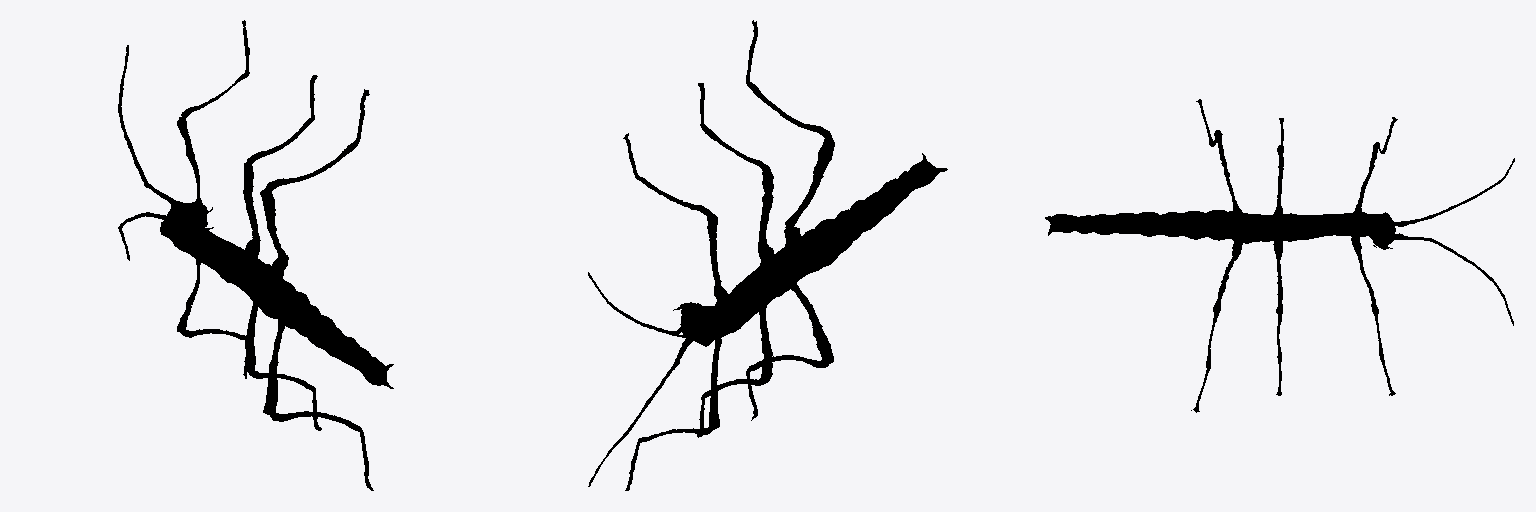
--- What the picture shows (computed from the rendered views, not written in the file) ---
Views: 3 orthographic renders of the robot side by side, from view 1: azimuth 30°, elevation 25°; view 2: azimuth 150°, elevation 25°; view 3: azimuth 270°, elevation 25°.
Model SungayaInexpecta with 43 links and 42 joints (42 revolute), rooted at 01_Carput, posed all joints at 0.
Visible links, largest first — view 1: 03_Mesothorax, 01_Carput, 15_HL_Femur_L, 07_Abdomen4, 06_Abdomen3, 20_HL_Femur_R, 13_Abdomen10, 30_ML_Femur_R, 02_Prothorax, 08_Abdomen5, 04_Metathorax, 40_FL_Femur_R (+4 smaller); view 2: 01_Carput, 03_Mesothorax, 20_HL_Femur_R, 15_HL_Femur_L, 04_Metathorax, 30_ML_Femur_R, 35_FL_Femur_L, 06_Abdomen3, 07_Abdomen4, 25_ML_Femur_L, 02_Prothorax, 09_Abdomen6 (+3 smaller); view 3: 03_Mesothorax, 01_Carput, 06_Abdomen3, 04_Metathorax, 07_Abdomen4, 08_Abdomen5.
Boxes of the visible links, x1,y1,x2,y2 form: 03_Mesothorax: (184, 232, 257, 283); 01_Carput: (118, 45, 213, 260); 15_HL_Femur_L: (263, 321, 284, 415); 07_Abdomen4: (270, 290, 309, 328); 06_Abdomen3: (257, 278, 295, 318); 20_HL_Femur_R: (260, 187, 288, 263); 13_Abdomen10: (360, 357, 393, 388); 30_ML_Femur_R: (243, 162, 259, 241); 02_Prothorax: (171, 218, 211, 252); 08_Abdomen5: (288, 302, 320, 336); 04_Metathorax: (233, 259, 270, 293); 40_FL_Femur_R: (177, 117, 202, 209); 01_Carput: (588, 272, 738, 486); 03_Mesothorax: (729, 253, 802, 313); 20_HL_Femur_R: (785, 137, 834, 228); 15_HL_Femur_L: (791, 283, 833, 364); 04_Metathorax: (777, 240, 816, 278); 30_ML_Femur_R: (758, 169, 773, 248); 35_FL_Femur_L: (709, 338, 721, 429); 06_Abdomen3: (803, 228, 841, 266); 07_Abdomen4: (815, 218, 854, 253); 25_ML_Femur_L: (759, 306, 772, 380); 02_Prothorax: (715, 296, 755, 331); 09_Abdomen6: (850, 199, 882, 231); 03_Mesothorax: (1266, 213, 1340, 241); 01_Carput: (1366, 158, 1514, 325); 06_Abdomen3: (1206, 210, 1228, 240); 04_Metathorax: (1244, 213, 1266, 243); 07_Abdomen4: (1183, 211, 1206, 239); 08_Abdomen5: (1160, 212, 1182, 236).
Bounding box of the posed robot: 0.5221 × 2.72 × 1.99 m (x, y, z).
43 mesh visuals loaded from 43 distinct referenced files (43 OBJ).

robot.urdf — SungayaInexpecta:
<?xml version="1.0"?>
<!-- created with Phobos 1.0.1 "Capricious Choutengan" -->
  <robot name="SungayaInexpecta">

    <link name="01_Carput">
      <inertial>
        <origin xyz="0 0 0" rpy="0 0 0"/>
        <mass value="0.001"/>
        <inertia ixx="0.001" ixy="0" ixz="0" iyy="0.001" iyz="0" izz="0.001"/>
      </inertial>
      <visual name="03_caput">
        <origin xyz="0.08139357 0.433166414 -0.118143879" rpy="0 -1.570796251 0"/>
        <geometry>
          <mesh filename="../meshes/obj/Sungaya_inexpectata_31mg.051.obj" scale="100.0 100.0 100.0"/>
        </geometry>
        <material name="Sungaya_inexpectata_31mg"/>
      </visual>
      <collision name="03_caput.000">
        <origin xyz="0.08139357 0.433166414 -0.118143879" rpy="0 -1.570796251 0"/>
        <geometry>
          <mesh filename="../meshes/obj/Sungaya_inexpectata_31mg.131.obj" scale="100.0 100.0 100.0"/>
        </geometry>
      </collision>
    </link>

    <link name="02_Prothorax">
      <inertial>
        <origin xyz="0 0 0" rpy="0 0 0"/>
        <mass value="0.001"/>
        <inertia ixx="0.001" ixy="0" ixz="0" iyy="0.001" iyz="0" izz="0.001"/>
      </inertial>
      <visual name="04_t1">
        <origin xyz="0.022835033 -0.071372911 -0.112794869" rpy="0 -1.570796251 0"/>
        <geometry>
          <mesh filename="../meshes/obj/Sungaya_inexpectata_31mg.016.obj" scale="100.0 100.0 100.0"/>
        </geometry>
        <material name="Sungaya_inexpectata_31mg"/>
      </visual>
      <collision name="04_t1.000">
        <origin xyz="0.022835033 -0.071372971 -0.112794869" rpy="0 -1.570796251 0"/>
        <geometry>
          <mesh filename="../meshes/obj/Sungaya_inexpectata_31mg.130.obj" scale="100.0 100.0 100.0"/>
        </geometry>
      </collision>
    </link>

    <link name="03_Mesothorax">
      <inertial>
        <origin xyz="0 0 0" rpy="0 0 0"/>
        <mass value="0.001"/>
        <inertia ixx="0.001" ixy="0" ixz="0" iyy="0.001" iyz="0" izz="0.001"/>
      </inertial>
      <visual name="05_t2">
        <origin xyz="0.032171875 -0.21571365 -0.085753329" rpy="0 -1.570796251 0"/>
        <geometry>
          <mesh filename="../meshes/obj/Sungaya_inexpectata_31mg.018.obj" scale="100.0 100.0 100.0"/>
        </geometry>
        <material name="Sungaya_inexpectata_31mg"/>
      </visual>
      <collision name="05_t2.000">
        <origin xyz="0.032171875 -0.21571365 -0.085753337" rpy="0 -1.570796251 0"/>
        <geometry>
          <mesh filename="../meshes/obj/Sungaya_inexpectata_31mg.119.obj" scale="100.0 100.0 100.0"/>
        </geometry>
      </collision>
    </link>

    <link name="04_Metathorax">
      <inertial>
        <origin xyz="0 0 0" rpy="0 0 0"/>
        <mass value="0.001"/>
        <inertia ixx="0.001" ixy="0" ixz="0" iyy="0.001" iyz="0" izz="0.001"/>
      </inertial>
      <visual name="06_t3">
        <origin xyz="0.030135544 -0.063431233 -0.080801614" rpy="0 -1.570796251 0"/>
        <geometry>
          <mesh filename="../meshes/obj/Sungaya_inexpectata_31mg.019.obj" scale="100.0 100.0 100.0"/>
        </geometry>
        <material name="Sungaya_inexpectata_31mg"/>
      </visual>
      <collision name="06_t3.000">
        <origin xyz="0.030135544 -0.063431233 -0.080801614" rpy="0 -1.570796251 0"/>
        <geometry>
          <mesh filename="../meshes/obj/Sungaya_inexpectata_31mg.108.obj" scale="100.0 100.0 100.0"/>
        </geometry>
      </collision>
    </link>

    <link name="05_Abdomen2">
      <inertial>
        <origin xyz="0 0 0" rpy="0 0 0"/>
        <mass value="0.001"/>
        <inertia ixx="0.001" ixy="0" ixz="0" iyy="0.001" iyz="0" izz="0.001"/>
      </inertial>
      <visual name="07_a2">
        <origin xyz="0.027714022 -0.045568388 -0.080784924" rpy="0 -1.570796251 0"/>
        <geometry>
          <mesh filename="../meshes/obj/Sungaya_inexpectata_31mg.020.obj" scale="100.0 100.0 100.0"/>
        </geometry>
        <material name="Sungaya_inexpectata_31mg"/>
      </visual>
      <collision name="07_a2.000">
        <origin xyz="0.027714022 -0.045568373 -0.080784932" rpy="0 -1.570796251 0"/>
        <geometry>
          <mesh filename="../meshes/obj/Sungaya_inexpectata_31mg.107.obj" scale="100.0 100.0 100.0"/>
        </geometry>
      </collision>
    </link>

    <link name="06_Abdomen3">
      <inertial>
        <origin xyz="0 0 0" rpy="0 0 0"/>
        <mass value="0.001"/>
        <inertia ixx="0.001" ixy="0" ixz="0" iyy="0.001" iyz="0" izz="0.001"/>
      </inertial>
      <visual name="08_a3">
        <origin xyz="0.018590147 -0.064954661 -0.090111241" rpy="0 -1.570796251 0"/>
        <geometry>
          <mesh filename="../meshes/obj/Sungaya_inexpectata_31mg.021.obj" scale="100.0 100.0 100.0"/>
        </geometry>
        <material name="Sungaya_inexpectata_31mg"/>
      </visual>
      <collision name="08_a3.000">
        <origin xyz="0.018590147 -0.064954661 -0.090111248" rpy="0 -1.570796251 0"/>
        <geometry>
          <mesh filename="../meshes/obj/Sungaya_inexpectata_31mg.096.obj" scale="100.0 100.0 100.0"/>
        </geometry>
      </collision>
    </link>

    <link name="07_Abdomen4">
      <inertial>
        <origin xyz="0 0 0" rpy="0 0 0"/>
        <mass value="0.001"/>
        <inertia ixx="0.001" ixy="0" ixz="0" iyy="0.001" iyz="0" izz="0.001"/>
      </inertial>
      <visual name="09_a4">
        <origin xyz="0.022988424 -0.067074291 -0.09463945" rpy="0 -1.570796251 0"/>
        <geometry>
          <mesh filename="../meshes/obj/Sungaya_inexpectata_31mg.022.obj" scale="100.0 100.0 100.0"/>
        </geometry>
        <material name="Sungaya_inexpectata_31mg"/>
      </visual>
      <collision name="09_a4.000">
        <origin xyz="0.022988424 -0.067074262 -0.094639458" rpy="0 -1.570796251 0"/>
        <geometry>
          <mesh filename="../meshes/obj/Sungaya_inexpectata_31mg.095.obj" scale="100.0 100.0 100.0"/>
        </geometry>
      </collision>
    </link>

    <link name="08_Abdomen5">
      <inertial>
        <origin xyz="0 0 0" rpy="0 0 0"/>
        <mass value="0.001"/>
        <inertia ixx="0.001" ixy="0" ixz="0" iyy="0.001" iyz="0" izz="0.001"/>
      </inertial>
      <visual name="10_a5">
        <origin xyz="0.014604541 -0.065614454 -0.097968869" rpy="0 -1.570796251 0"/>
        <geometry>
          <mesh filename="../meshes/obj/Sungaya_inexpectata_31mg.023.obj" scale="100.0 100.0 100.0"/>
        </geometry>
        <material name="Sungaya_inexpectata_31mg"/>
      </visual>
      <collision name="10_a5.000">
        <origin xyz="0.014604541 -0.065614454 -0.097968869" rpy="0 -1.570796251 0"/>
        <geometry>
          <mesh filename="../meshes/obj/Sungaya_inexpectata_31mg.094.obj" scale="100.0 100.0 100.0"/>
        </geometry>
      </collision>
    </link>

    <link name="09_Abdomen6">
      <inertial>
        <origin xyz="0 0 0" rpy="0 0 0"/>
        <mass value="0.001"/>
        <inertia ixx="0.001" ixy="0" ixz="0" iyy="0.001" iyz="0" izz="0.001"/>
      </inertial>
      <visual name="11_a6">
        <origin xyz="0.009119672 -0.063280404 -0.094732411" rpy="0 -1.570796251 0"/>
        <geometry>
          <mesh filename="../meshes/obj/Sungaya_inexpectata_31mg.024.obj" scale="100.0 100.0 100.0"/>
        </geometry>
        <material name="Sungaya_inexpectata_31mg"/>
      </visual>
      <collision name="11_a6.000">
        <origin xyz="0.009119672 -0.063280404 -0.094732419" rpy="0 -1.570796251 0"/>
        <geometry>
          <mesh filename="../meshes/obj/Sungaya_inexpectata_31mg.093.obj" scale="100.0 100.0 100.0"/>
        </geometry>
      </collision>
    </link>

    <link name="10_Abdomen7">
      <inertial>
        <origin xyz="0 0 0" rpy="0 0 0"/>
        <mass value="0.001"/>
        <inertia ixx="0.001" ixy="0" ixz="0" iyy="0.001" iyz="0" izz="0.001"/>
      </inertial>
      <visual name="12_a7">
        <origin xyz="0.002820844 -0.070102617 -0.100277029" rpy="0 -1.570796251 0"/>
        <geometry>
          <mesh filename="../meshes/obj/Sungaya_inexpectata_31mg.025.obj" scale="100.0 100.0 100.0"/>
        </geometry>
        <material name="Sungaya_inexpectata_31mg"/>
      </visual>
      <collision name="12_a7.000">
        <origin xyz="0.002820844 -0.070102617 -0.100277029" rpy="0 -1.570796251 0"/>
        <geometry>
          <mesh filename="../meshes/obj/Sungaya_inexpectata_31mg.092.obj" scale="100.0 100.0 100.0"/>
        </geometry>
      </collision>
    </link>

    <link name="11_Abdomen8">
      <inertial>
        <origin xyz="0 0 0" rpy="0 0 0"/>
        <mass value="0.001"/>
        <inertia ixx="0.001" ixy="0" ixz="0" iyy="0.001" iyz="0" izz="0.001"/>
      </inertial>
      <visual name="13_a8">
        <origin xyz="-0.001014111 -0.056731414 -0.096700475" rpy="0 -1.570796251 0"/>
        <geometry>
          <mesh filename="../meshes/obj/Sungaya_inexpectata_31mg.026.obj" scale="100.0 100.0 100.0"/>
        </geometry>
        <material name="Sungaya_inexpectata_31mg"/>
      </visual>
      <collision name="13_a8.000">
        <origin xyz="-0.001014111 -0.056731474 -0.096700475" rpy="0 -1.570796251 0"/>
        <geometry>
          <mesh filename="../meshes/obj/Sungaya_inexpectata_31mg.091.obj" scale="100.0 100.0 100.0"/>
        </geometry>
      </collision>
    </link>

    <link name="12_Abdomen9">
      <inertial>
        <origin xyz="0 0 0" rpy="0 0 0"/>
        <mass value="0.001"/>
        <inertia ixx="0.001" ixy="0" ixz="0" iyy="0.001" iyz="0" izz="0.001"/>
      </inertial>
      <visual name="14_a9">
        <origin xyz="-0.001375524 -0.054469064 -0.109575644" rpy="0 -1.570796251 0"/>
        <geometry>
          <mesh filename="../meshes/obj/Sungaya_inexpectata_31mg.027.obj" scale="100.0 100.0 100.0"/>
        </geometry>
        <material name="Sungaya_inexpectata_31mg"/>
      </visual>
      <collision name="14_a9.000">
        <origin xyz="-0.001375524 -0.054469064 -0.109575644" rpy="0 -1.570796251 0"/>
        <geometry>
          <mesh filename="../meshes/obj/Sungaya_inexpectata_31mg.090.obj" scale="100.0 100.0 100.0"/>
        </geometry>
      </collision>
    </link>

    <link name="13_Abdomen10">
      <inertial>
        <origin xyz="0 0 0" rpy="0 0 0"/>
        <mass value="0.001"/>
        <inertia ixx="0.001" ixy="0" ixz="0" iyy="0.001" iyz="0" izz="0.001"/>
      </inertial>
      <visual name="15_a10">
        <origin xyz="-0.016378818 -0.090794034 -0.098942615" rpy="0 -1.570796251 0"/>
        <geometry>
          <mesh filename="../meshes/obj/Sungaya_inexpectata_31mg.028.obj" scale="100.0 100.0 100.0"/>
        </geometry>
        <material name="Sungaya_inexpectata_31mg"/>
      </visual>
      <collision name="15_a10.000">
        <origin xyz="-0.016378818 -0.090794034 -0.09894263" rpy="0 -1.570796251 0"/>
        <geometry>
          <mesh filename="../meshes/obj/Sungaya_inexpectata_31mg.089.obj" scale="100.0 100.0 100.0"/>
        </geometry>
      </collision>
    </link>

    <link name="14_HL_CT_L">
      <inertial>
        <origin xyz="0 0 0" rpy="0 0 0"/>
        <mass value="0.001"/>
        <inertia ixx="0.001" ixy="0" ixz="0" iyy="0.001" iyz="0" izz="0.001"/>
      </inertial>
      <visual name="26_h_l_coxa">
        <origin xyz="-0.021009615 -0.00160702 -0.106741734" rpy="0 0 -0.261799425"/>
        <geometry>
          <mesh filename="../meshes/obj/Sungaya_inexpectata_31mg.014.obj" scale="99.999992371 100.0 100.0"/>
        </geometry>
        <material name="Sungaya_inexpectata_31mg"/>
      </visual>
      <collision name="26_h_l_coxa.000">
        <origin xyz="-0.02100963 -0.001607028 -0.106741734" rpy="0 0 -0.261799455"/>
        <geometry>
          <mesh filename="../meshes/obj/Sungaya_inexpectata_31mg.101.obj" scale="99.999992371 100.0 100.0"/>
        </geometry>
      </collision>
    </link>

    <link name="15_HL_Femur_L">
      <inertial>
        <origin xyz="0 0 0" rpy="0 0 0"/>
        <mass value="0.001"/>
        <inertia ixx="0.001" ixy="0" ixz="0" iyy="0.001" iyz="0" izz="0.001"/>
      </inertial>
      <visual name="27_h_l_femur">
        <origin xyz="-0.228024483 -0.069476306 -0.100259311" rpy="-1.570796609 -0.261799455 0.608563483"/>
        <geometry>
          <mesh filename="../meshes/obj/Sungaya_inexpectata_31mg.013.obj" scale="99.999992371 100.000007629 100.0"/>
        </geometry>
        <material name="Sungaya_inexpectata_31mg"/>
      </visual>
      <collision name="27_h_l_femur.000">
        <origin xyz="-0.228024483 -0.069476306 -0.100259341" rpy="-1.570796609 -0.261799455 0.608563542"/>
        <geometry>
          <mesh filename="../meshes/obj/Sungaya_inexpectata_31mg.100.obj" scale="99.999992371 100.000007629 100.0"/>
        </geometry>
      </collision>
    </link>

    <link name="16_HL_Tibia_L">
      <inertial>
        <origin xyz="0 0 0" rpy="0 0 0"/>
        <mass value="0.001"/>
        <inertia ixx="0.001" ixy="0" ixz="0" iyy="0.001" iyz="0" izz="0.001"/>
      </inertial>
      <visual name="28_h_l_tibia">
        <origin xyz="-0.222540334 -0.072928704 -0.102283351" rpy="-1.570796609 -0.261799783 -0.899731874"/>
        <geometry>
          <mesh filename="../meshes/obj/Sungaya_inexpectata_31mg.012.obj" scale="99.999984741 100.000007629 100.000007629"/>
        </geometry>
        <material name="Sungaya_inexpectata_31mg"/>
      </visual>
      <collision name="28_h_l_tibia.000">
        <origin xyz="-0.222540334 -0.072928704 -0.102283381" rpy="-1.570796609 -0.261799812 -0.899731874"/>
        <geometry>
          <mesh filename="../meshes/obj/Sungaya_inexpectata_31mg.099.obj" scale="99.999984741 100.000007629 100.000007629"/>
        </geometry>
      </collision>
    </link>

    <link name="17_HL_Tarsus_L">
      <inertial>
        <origin xyz="0 0 0" rpy="0 0 0"/>
        <mass value="0.001"/>
        <inertia ixx="0.001" ixy="0" ixz="0" iyy="0.001" iyz="0" izz="0.001"/>
      </inertial>
      <visual name="29_h_l_pretarsus">
        <origin xyz="-0.045006312 -0.015618735 -0.102192655" rpy="-1.570796847 -0.261799783 0.291920215"/>
        <geometry>
          <mesh filename="../meshes/obj/Sungaya_inexpectata_31mg.011.obj" scale="99.999984741 100.000007629 100.000007629"/>
        </geometry>
        <material name="Sungaya_inexpectata_31mg"/>
      </visual>
      <collision name="29_h_l_pretarsus.000">
        <origin xyz="-0.045006372 -0.015618735 -0.102192625" rpy="-1.570796847 -0.261799753 0.291920185"/>
        <geometry>
          <mesh filename="../meshes/obj/Sungaya_inexpectata_31mg.098.obj" scale="99.999984741 100.000007629 100.000007629"/>
        </geometry>
      </collision>
    </link>

    <link name="18_HL_Pretarsus_L">
      <inertial>
        <origin xyz="0 0 0" rpy="0 0 0"/>
        <mass value="0.001"/>
        <inertia ixx="0.001" ixy="0" ixz="0" iyy="0.001" iyz="0" izz="0.001"/>
      </inertial>
      <visual name="30_h_l_tarsus">
        <origin xyz="-0.091417097 -0.027885644 -0.089987911" rpy="-1.570796728 -0.261799932 0.291920155"/>
        <geometry>
          <mesh filename="../meshes/obj/Sungaya_inexpectata_31mg.010.obj" scale="99.999984741 100.000007629 100.000007629"/>
        </geometry>
        <material name="Sungaya_inexpectata_31mg"/>
      </visual>
      <collision name="30_h_l_tarsus.000">
        <origin xyz="-0.091417156 -0.027885644 -0.089987986" rpy="-1.570796728 -0.261799961 0.291920125"/>
        <geometry>
          <mesh filename="../meshes/obj/Sungaya_inexpectata_31mg.097.obj" scale="99.999984741 100.000007629 100.000007629"/>
        </geometry>
      </collision>
    </link>

    <link name="19_HL_CT_R">
      <inertial>
        <origin xyz="0 0 0" rpy="0 0 0"/>
        <mass value="0.001"/>
        <inertia ixx="0.001" ixy="0" ixz="0" iyy="0.001" iyz="0" izz="0.001"/>
      </inertial>
      <visual name="41_h_r_coxa">
        <origin xyz="0.02099864 -0.001401981 -0.10671363" rpy="0 0 0.261799425"/>
        <geometry>
          <mesh filename="../meshes/obj/Sungaya_inexpectata_31mg.049.obj" scale="99.999992371 100.0 100.0"/>
        </geometry>
        <material name="Sungaya_inexpectata_31mg"/>
      </visual>
      <collision name="41_h_r_coxa.000">
        <origin xyz="0.02099864 -0.001401981 -0.10671363" rpy="0 0 0.261799455"/>
        <geometry>
          <mesh filename="../meshes/obj/Sungaya_inexpectata_31mg.106.obj" scale="99.999992371 100.0 100.0"/>
        </geometry>
      </collision>
    </link>

    <link name="20_HL_Femur_R">
      <inertial>
        <origin xyz="0 0 0" rpy="0 0 0"/>
        <mass value="0.001"/>
        <inertia ixx="0.001" ixy="0" ixz="0" iyy="0.001" iyz="0" izz="0.001"/>
      </inertial>
      <visual name="42_h_r_femur">
        <origin xyz="0.228385448 -0.069326207 -0.103076696" rpy="-1.57079649 0.261799544 -0.63423121"/>
        <geometry>
          <mesh filename="../meshes/obj/Sungaya_inexpectata_31mg.048.obj" scale="99.999992371 100.000007629 100.000007629"/>
        </geometry>
        <material name="Sungaya_inexpectata_31mg"/>
      </visual>
      <collision name="42_h_r_femur.000">
        <origin xyz="0.228385389 -0.069326222 -0.103076696" rpy="-1.57079649 0.261799604 -0.634231269"/>
        <geometry>
          <mesh filename="../meshes/obj/Sungaya_inexpectata_31mg.105.obj" scale="99.999992371 100.000007629 100.000007629"/>
        </geometry>
      </collision>
    </link>

    <link name="21_HL_Tibia_R">
      <inertial>
        <origin xyz="0 0 0" rpy="0 0 0"/>
        <mass value="0.001"/>
        <inertia ixx="0.001" ixy="0" ixz="0" iyy="0.001" iyz="0" izz="0.001"/>
      </inertial>
      <visual name="43_h_r_tibia">
        <origin xyz="0.222753391 -0.072718002 -0.104981355" rpy="-1.570796609 0.261799395 0.924147785"/>
        <geometry>
          <mesh filename="../meshes/obj/Sungaya_inexpectata_31mg.047.obj" scale="100.0 100.0 100.000007629"/>
        </geometry>
        <material name="Sungaya_inexpectata_31mg"/>
      </visual>
      <collision name="43_h_r_tibia.000">
        <origin xyz="0.22275348 -0.072717942 -0.104981385" rpy="-1.570796609 0.261799395 0.924147844"/>
        <geometry>
          <mesh filename="../meshes/obj/Sungaya_inexpectata_31mg.104.obj" scale="100.0 100.0 100.000007629"/>
        </geometry>
      </collision>
    </link>

    <link name="22_HL_Tarsus_R">
      <inertial>
        <origin xyz="0 0 0" rpy="0 0 0"/>
        <mass value="0.001"/>
        <inertia ixx="0.001" ixy="0" ixz="0" iyy="0.001" iyz="0" izz="0.001"/>
      </inertial>
      <visual name="44_h_r_pretarsus">
        <origin xyz="0.045024663 -0.015421972 -0.102754556" rpy="-1.57079649 0.261799514 -0.301875204"/>
        <geometry>
          <mesh filename="../meshes/obj/Sungaya_inexpectata_31mg.046.obj" scale="99.999984741 99.999984741 100.000007629"/>
        </geometry>
        <material name="Sungaya_inexpectata_31mg"/>
      </visual>
      <collision name="44_h_r_pretarsus.000">
        <origin xyz="0.045024723 -0.015421972 -0.102754511" rpy="-1.57079649 0.261799484 -0.301875204"/>
        <geometry>
          <mesh filename="../meshes/obj/Sungaya_inexpectata_31mg.103.obj" scale="99.999984741 99.999984741 100.000007629"/>
        </geometry>
      </collision>
    </link>

    <link name="23_HL_Pretarsus_R">
      <inertial>
        <origin xyz="0 0 0" rpy="0 0 0"/>
        <mass value="0.001"/>
        <inertia ixx="0.001" ixy="0" ixz="0" iyy="0.001" iyz="0" izz="0.001"/>
      </inertial>
      <visual name="45_h_r_tarsus">
        <origin xyz="0.09170641 -0.027232798 -0.091076627" rpy="-1.570796251 0.261799514 -0.301874906"/>
        <geometry>
          <mesh filename="../meshes/obj/Sungaya_inexpectata_31mg.045.obj" scale="99.999984741 99.999984741 100.000007629"/>
        </geometry>
        <material name="Sungaya_inexpectata_31mg"/>
      </visual>
      <collision name="45_h_r_tarsus.000">
        <origin xyz="0.091706291 -0.027232798 -0.091076642" rpy="-1.570796251 0.261799514 -0.301874906"/>
        <geometry>
          <mesh filename="../meshes/obj/Sungaya_inexpectata_31mg.102.obj" scale="99.999984741 99.999984741 100.000007629"/>
        </geometry>
      </collision>
    </link>

    <link name="24_ML_CT_L">
      <inertial>
        <origin xyz="0 0 0" rpy="0 0 0"/>
        <mass value="0.001"/>
        <inertia ixx="0.001" ixy="0" ixz="0" iyy="0.001" iyz="0" izz="0.001"/>
      </inertial>
      <visual name="21_m_l_coxa">
        <origin xyz="-0.024473807 -0.000900729 -0.107780963" rpy="0 0 0"/>
        <geometry>
          <mesh filename="../meshes/obj/Sungaya_inexpectata_31mg.009.obj" scale="100.0 100.0 100.0"/>
        </geometry>
        <material name="Sungaya_inexpectata_31mg"/>
      </visual>
      <collision name="21_m_l_coxa.000">
        <origin xyz="-0.024473799 -0.000900744 -0.107780963" rpy="0 0 0"/>
        <geometry>
          <mesh filename="../meshes/obj/Sungaya_inexpectata_31mg.113.obj" scale="100.0 100.0 100.0"/>
        </geometry>
      </collision>
    </link>

    <link name="25_ML_Femur_L">
      <inertial>
        <origin xyz="0 0 0" rpy="0 0 0"/>
        <mass value="0.001"/>
        <inertia ixx="0.001" ixy="0" ixz="0" iyy="0.001" iyz="0" izz="0.001"/>
      </inertial>
      <visual name="22_m_l_femur">
        <origin xyz="-0.187307894 -0.048444901 -0.101659447" rpy="-1.570796371 -2.9e-08 0.365136474"/>
        <geometry>
          <mesh filename="../meshes/obj/Sungaya_inexpectata_31mg.008.obj" scale="100.000007629 100.0 100.000007629"/>
        </geometry>
        <material name="Sungaya_inexpectata_31mg"/>
      </visual>
      <collision name="22_m_l_femur.000">
        <origin xyz="-0.187307894 -0.048444901 -0.101659462" rpy="-1.570796371 -2.9e-08 0.365136474"/>
        <geometry>
          <mesh filename="../meshes/obj/Sungaya_inexpectata_31mg.112.obj" scale="100.000007629 100.0 100.000007629"/>
        </geometry>
      </collision>
    </link>

    <link name="26_ML_Tibia_L">
      <inertial>
        <origin xyz="0 0 0" rpy="0 0 0"/>
        <mass value="0.001"/>
        <inertia ixx="0.001" ixy="0" ixz="0" iyy="0.001" iyz="0" izz="0.001"/>
      </inertial>
      <visual name="23_m_l_tibia">
        <origin xyz="-0.17060101 -0.052012466 -0.099999696" rpy="-1.570796251 1.77e-07 -0.833749592"/>
        <geometry>
          <mesh filename="../meshes/obj/Sungaya_inexpectata_31mg.007.obj" scale="100.0 100.0 100.000015259"/>
        </geometry>
        <material name="Sungaya_inexpectata_31mg"/>
      </visual>
      <collision name="23_m_l_tibia.000">
        <origin xyz="-0.170601115 -0.052012466 -0.099999666" rpy="-1.570796251 1.77e-07 -0.833749592"/>
        <geometry>
          <mesh filename="../meshes/obj/Sungaya_inexpectata_31mg.111.obj" scale="100.0 100.0 100.000015259"/>
        </geometry>
      </collision>
    </link>

    <link name="27_ML_Tarsus_L">
      <inertial>
        <origin xyz="0 0 0" rpy="0 0 0"/>
        <mass value="0.001"/>
        <inertia ixx="0.001" ixy="0" ixz="0" iyy="0.001" iyz="0" izz="0.001"/>
      </inertial>
      <visual name="24_m_l_pretarsus">
        <origin xyz="-0.041104596 -0.013789847 -0.100000069" rpy="-1.570796013 -1.17e-07 0.223369271"/>
        <geometry>
          <mesh filename="../meshes/obj/Sungaya_inexpectata_31mg.006.obj" scale="100.0 100.0 100.000015259"/>
        </geometry>
        <material name="Sungaya_inexpectata_31mg"/>
      </visual>
      <collision name="24_m_l_pretarsus.000">
        <origin xyz="-0.041104596 -0.013789839 -0.100000069" rpy="-1.570796013 -1.17e-07 0.223369271"/>
        <geometry>
          <mesh filename="../meshes/obj/Sungaya_inexpectata_31mg.110.obj" scale="100.0 100.0 100.000015259"/>
        </geometry>
      </collision>
    </link>

    <link name="28_ML_Pretarsus_L">
      <inertial>
        <origin xyz="0 0 0" rpy="0 0 0"/>
        <mass value="0.001"/>
        <inertia ixx="0.001" ixy="0" ixz="0" iyy="0.001" iyz="0" izz="0.001"/>
      </inertial>
      <visual name="25_m_l_tarsus">
        <origin xyz="-0.058871239 -0.023186591 -0.090875648" rpy="-1.570796013 -9.5e-08 0.223369375"/>
        <geometry>
          <mesh filename="../meshes/obj/Sungaya_inexpectata_31mg.005.obj" scale="100.0 100.0 100.000022888"/>
        </geometry>
        <material name="Sungaya_inexpectata_31mg"/>
      </visual>
      <collision name="25_m_l_tarsus.000">
        <origin xyz="-0.058871239 -0.023186605 -0.090875648" rpy="-1.570796013 -9.5e-08 0.223369405"/>
        <geometry>
          <mesh filename="../meshes/obj/Sungaya_inexpectata_31mg.109.obj" scale="100.0 100.0 100.000022888"/>
        </geometry>
      </collision>
    </link>

    <link name="29_ML_CT_R">
      <inertial>
        <origin xyz="0 0 0" rpy="0 0 0"/>
        <mass value="0.001"/>
        <inertia ixx="0.001" ixy="0" ixz="0" iyy="0.001" iyz="0" izz="0.001"/>
      </inertial>
      <visual name="36_m_r_coxa">
        <origin xyz="0.024645774 -0.000782041 -0.107718825" rpy="0 0 0"/>
        <geometry>
          <mesh filename="../meshes/obj/Sungaya_inexpectata_31mg.044.obj" scale="100.0 100.0 100.0"/>
        </geometry>
        <material name="Sungaya_inexpectata_31mg"/>
      </visual>
      <collision name="36_m_r_coxa.000">
        <origin xyz="0.024645781 -0.000782041 -0.107718825" rpy="0 0 0"/>
        <geometry>
          <mesh filename="../meshes/obj/Sungaya_inexpectata_31mg.118.obj" scale="100.0 100.0 100.0"/>
        </geometry>
      </collision>
    </link>

    <link name="30_ML_Femur_R">
      <inertial>
        <origin xyz="0 0 0" rpy="0 0 0"/>
        <mass value="0.001"/>
        <inertia ixx="0.001" ixy="0" ixz="0" iyy="0.001" iyz="0" izz="0.001"/>
      </inertial>
      <visual name="37_m_r_femur">
        <origin xyz="0.186871111 -0.049436446 -0.103948534" rpy="-1.57079649 -1.7e-08 -0.388030499"/>
        <geometry>
          <mesh filename="../meshes/obj/Sungaya_inexpectata_31mg.043.obj" scale="100.0 100.0 100.000007629"/>
        </geometry>
        <material name="Sungaya_inexpectata_31mg"/>
      </visual>
      <collision name="37_m_r_femur.000">
        <origin xyz="0.186871111 -0.049436446 -0.103948534" rpy="-1.57079649 -1.7e-08 -0.388030559"/>
        <geometry>
          <mesh filename="../meshes/obj/Sungaya_inexpectata_31mg.117.obj" scale="100.0 100.0 100.000007629"/>
        </geometry>
      </collision>
    </link>

    <link name="31_ML_Tibia_R">
      <inertial>
        <origin xyz="0 0 0" rpy="0 0 0"/>
        <mass value="0.001"/>
        <inertia ixx="0.001" ixy="0" ixz="0" iyy="0.001" iyz="0" izz="0.001"/>
      </inertial>
      <visual name="38_m_r_tibia">
        <origin xyz="0.170856312 -0.051999711 -0.100033574" rpy="-1.57079649 1.04e-07 0.892820656"/>
        <geometry>
          <mesh filename="../meshes/obj/Sungaya_inexpectata_31mg.042.obj" scale="100.0 100.0 100.0"/>
        </geometry>
        <material name="Sungaya_inexpectata_31mg"/>
      </visual>
      <collision name="38_m_r_tibia.000">
        <origin xyz="0.170856297 -0.051999711 -0.100033574" rpy="-1.57079649 1.04e-07 0.892820656"/>
        <geometry>
          <mesh filename="../meshes/obj/Sungaya_inexpectata_31mg.116.obj" scale="100.0 100.0 100.0"/>
        </geometry>
      </collision>
    </link>

    <link name="32_ML_Tarsus_R">
      <inertial>
        <origin xyz="0 0 0" rpy="0 0 0"/>
        <mass value="0.001"/>
        <inertia ixx="0.001" ixy="0" ixz="0" iyy="0.001" iyz="0" izz="0.001"/>
      </inertial>
      <visual name="39_m_r_pretarsus">
        <origin xyz="0.041013815 -0.013692608 -0.100000076" rpy="-1.570796251 5.4e-08 -0.284025282"/>
        <geometry>
          <mesh filename="../meshes/obj/Sungaya_inexpectata_31mg.041.obj" scale="100.0 100.0 100.0"/>
        </geometry>
        <material name="Sungaya_inexpectata_31mg"/>
      </visual>
      <collision name="39_m_r_pretarsus.000">
        <origin xyz="0.041013815 -0.01369263 -0.100000076" rpy="-1.570796251 5.4e-08 -0.284025311"/>
        <geometry>
          <mesh filename="../meshes/obj/Sungaya_inexpectata_31mg.115.obj" scale="100.0 100.0 100.0"/>
        </geometry>
      </collision>
    </link>

    <link name="33_ML_Pretarsus_R">
      <inertial>
        <origin xyz="0 0 0" rpy="0 0 0"/>
        <mass value="0.001"/>
        <inertia ixx="0.001" ixy="0" ixz="0" iyy="0.001" iyz="0" izz="0.001"/>
      </inertial>
      <visual name="40_m_r_tarsus">
        <origin xyz="0.060094066 -0.021396682 -0.09230157" rpy="-1.57079649 6.5e-08 -0.284025222"/>
        <geometry>
          <mesh filename="../meshes/obj/Sungaya_inexpectata_31mg.040.obj" scale="99.999992371 100.0 99.999992371"/>
        </geometry>
        <material name="Sungaya_inexpectata_31mg"/>
      </visual>
      <collision name="40_m_r_tarsus.000">
        <origin xyz="0.060094185 -0.021396741 -0.092301555" rpy="-1.57079649 6.5e-08 -0.284025222"/>
        <geometry>
          <mesh filename="../meshes/obj/Sungaya_inexpectata_31mg.114.obj" scale="99.999992371 100.0 99.999992371"/>
        </geometry>
      </collision>
    </link>

    <link name="34_FL_CT_L">
      <inertial>
        <origin xyz="0 0 0" rpy="0 0 0"/>
        <mass value="0.001"/>
        <inertia ixx="0.001" ixy="0" ixz="0" iyy="0.001" iyz="0" izz="0.001"/>
      </inertial>
      <visual name="16_f_l_coxa">
        <origin xyz="-0.022407774 -0.003341967 -0.102109835" rpy="0 0 0.261799425"/>
        <geometry>
          <mesh filename="../meshes/obj/Sungaya_inexpectata_31mg.004.obj" scale="99.999992371 100.0 100.0"/>
        </geometry>
        <material name="Sungaya_inexpectata_31mg"/>
      </visual>
      <collision name="16_f_l_coxa.000">
        <origin xyz="-0.022407759 -0.003341967 -0.102109835" rpy="0 0 0.261799455"/>
        <geometry>
          <mesh filename="../meshes/obj/Sungaya_inexpectata_31mg.129.obj" scale="99.999992371 100.0 100.0"/>
        </geometry>
      </collision>
    </link>

    <link name="35_FL_Femur_L">
      <inertial>
        <origin xyz="0 0 0" rpy="0 0 0"/>
        <mass value="0.001"/>
        <inertia ixx="0.001" ixy="0" ixz="0" iyy="0.001" iyz="0" izz="0.001"/>
      </inertial>
      <visual name="17_f_l_femur">
        <origin xyz="-0.211889997 -0.038533084 -0.094179936" rpy="-1.570796132 0.261799127 0.292513818"/>
        <geometry>
          <mesh filename="../meshes/obj/Sungaya_inexpectata_31mg.003.obj" scale="100.0 100.0 100.0"/>
        </geometry>
        <material name="Sungaya_inexpectata_31mg"/>
      </visual>
      <collision name="17_f_l_femur.000">
        <origin xyz="-0.211889938 -0.038533084 -0.094179936" rpy="-1.570796132 0.261799157 0.292513818"/>
        <geometry>
          <mesh filename="../meshes/obj/Sungaya_inexpectata_31mg.128.obj" scale="100.0 100.0 100.0"/>
        </geometry>
      </collision>
    </link>

    <link name="36_FL_Tibia_L">
      <inertial>
        <origin xyz="0 0 0" rpy="0 0 0"/>
        <mass value="0.001"/>
        <inertia ixx="0.001" ixy="0" ixz="0" iyy="0.001" iyz="0" izz="0.001"/>
      </inertial>
      <visual name="18_f_l_tibia">
        <origin xyz="-0.183828801 -0.042098559 -0.099081144" rpy="-1.57079649 0.261799425 -1.008393884"/>
        <geometry>
          <mesh filename="../meshes/obj/Sungaya_inexpectata_31mg.002.obj" scale="100.0 100.000007629 100.000015259"/>
        </geometry>
        <material name="Sungaya_inexpectata_31mg"/>
      </visual>
      <collision name="18_f_l_tibia.000">
        <origin xyz="-0.18382889 -0.0420985 -0.099081144" rpy="-1.57079649 0.261799365 -1.008393764"/>
        <geometry>
          <mesh filename="../meshes/obj/Sungaya_inexpectata_31mg.127.obj" scale="100.0 100.000007629 100.000015259"/>
        </geometry>
      </collision>
    </link>

    <link name="37_FL_Tarsus_L">
      <inertial>
        <origin xyz="0 0 0" rpy="0 0 0"/>
        <mass value="0.001"/>
        <inertia ixx="0.001" ixy="0" ixz="0" iyy="0.001" iyz="0" izz="0.001"/>
      </inertial>
      <visual name="19_f_l_pretarsus">
        <origin xyz="-0.049980305 -0.01284126 -0.098308183" rpy="-1.570796609 0.261799693 0.114232942"/>
        <geometry>
          <mesh filename="../meshes/obj/Sungaya_inexpectata_31mg.001.obj" scale="99.999992371 100.000015259 100.000015259"/>
        </geometry>
        <material name="Sungaya_inexpectata_31mg"/>
      </visual>
      <collision name="19_f_l_pretarsus.000">
        <origin xyz="-0.049980305 -0.012841245 -0.098308183" rpy="-1.570796609 0.261799693 0.114232942"/>
        <geometry>
          <mesh filename="../meshes/obj/Sungaya_inexpectata_31mg.126.obj" scale="99.999992371 100.000015259 100.000015259"/>
        </geometry>
      </collision>
    </link>

    <link name="38_FL_Pretarsus_L">
      <inertial>
        <origin xyz="0 0 0" rpy="0 0 0"/>
        <mass value="0.001"/>
        <inertia ixx="0.001" ixy="0" ixz="0" iyy="0.001" iyz="0" izz="0.001"/>
      </inertial>
      <visual name="20_f_l_tarsus">
        <origin xyz="-0.070826158 -0.011223099 -0.107972406" rpy="-1.570796609 0.261799663 0.114232935"/>
        <geometry>
          <mesh filename="../meshes/obj/Sungaya_inexpectata_31mg.obj" scale="100.0 100.000015259 100.000022888"/>
        </geometry>
        <material name="Sungaya_inexpectata_31mg"/>
      </visual>
      <collision name="20_f_l_tarsus.000">
        <origin xyz="-0.070826158 -0.011223099 -0.107972406" rpy="-1.570796609 0.261799663 0.11423295"/>
        <geometry>
          <mesh filename="../meshes/obj/Sungaya_inexpectata_31mg.125.obj" scale="100.0 100.000015259 100.000022888"/>
        </geometry>
      </collision>
    </link>

    <link name="39_FL_CT_R">
      <inertial>
        <origin xyz="0 0 0" rpy="0 0 0"/>
        <mass value="0.001"/>
        <inertia ixx="0.001" ixy="0" ixz="0" iyy="0.001" iyz="0" izz="0.001"/>
      </inertial>
      <visual name="31_f_r_coxa">
        <origin xyz="0.022512171 -0.002864713 -0.102051631" rpy="0 0 -0.261799425"/>
        <geometry>
          <mesh filename="../meshes/obj/Sungaya_inexpectata_31mg.039.obj" scale="99.999992371 100.0 100.0"/>
        </geometry>
        <material name="Sungaya_inexpectata_31mg"/>
      </visual>
      <collision name="31_f_r_coxa.000">
        <origin xyz="0.022512142 -0.002864713 -0.102051631" rpy="0 0 -0.261799455"/>
        <geometry>
          <mesh filename="../meshes/obj/Sungaya_inexpectata_31mg.124.obj" scale="99.999992371 100.0 100.0"/>
        </geometry>
      </collision>
    </link>

    <link name="40_FL_Femur_R">
      <inertial>
        <origin xyz="0 0 0" rpy="0 0 0"/>
        <mass value="0.001"/>
        <inertia ixx="0.001" ixy="0" ixz="0" iyy="0.001" iyz="0" izz="0.001"/>
      </inertial>
      <visual name="32_f_r_femur">
        <origin xyz="0.211949542 -0.038150005 -0.096822828" rpy="-1.570796251 -0.261799276 -0.279429883"/>
        <geometry>
          <mesh filename="../meshes/obj/Sungaya_inexpectata_31mg.038.obj" scale="99.999992371 99.999992371 100.0"/>
        </geometry>
        <material name="Sungaya_inexpectata_31mg"/>
      </visual>
      <collision name="32_f_r_femur.000">
        <origin xyz="0.211949542 -0.038150005 -0.096822888" rpy="-1.570796251 -0.261799276 -0.279429883"/>
        <geometry>
          <mesh filename="../meshes/obj/Sungaya_inexpectata_31mg.123.obj" scale="99.999992371 99.999992371 100.0"/>
        </geometry>
      </collision>
    </link>

    <link name="41_FL_Tibia_R">
      <inertial>
        <origin xyz="0 0 0" rpy="0 0 0"/>
        <mass value="0.001"/>
        <inertia ixx="0.001" ixy="0" ixz="0" iyy="0.001" iyz="0" izz="0.001"/>
      </inertial>
      <visual name="33_f_r_tibia">
        <origin xyz="0.183916628 -0.041837912 -0.101402268" rpy="-1.570796728 -0.261799455 1.023657322"/>
        <geometry>
          <mesh filename="../meshes/obj/Sungaya_inexpectata_31mg.037.obj" scale="99.999992371 99.999984741 100.0"/>
        </geometry>
        <material name="Sungaya_inexpectata_31mg"/>
      </visual>
      <collision name="33_f_r_tibia.000">
        <origin xyz="0.183916658 -0.041837793 -0.101402208" rpy="-1.570796728 -0.261799455 1.023657322"/>
        <geometry>
          <mesh filename="../meshes/obj/Sungaya_inexpectata_31mg.122.obj" scale="99.999992371 99.999984741 100.0"/>
        </geometry>
      </collision>
    </link>

    <link name="42_FL_Tarsus_R">
      <inertial>
        <origin xyz="0 0 0" rpy="0 0 0"/>
        <mass value="0.001"/>
        <inertia ixx="0.001" ixy="0" ixz="0" iyy="0.001" iyz="0" izz="0.001"/>
      </inertial>
      <visual name="34_f_r_pretarsus">
        <origin xyz="0.049836285 -0.012741284 -0.098992079" rpy="-1.570796132 -0.261799634 -0.135336339"/>
        <geometry>
          <mesh filename="../meshes/obj/Sungaya_inexpectata_31mg.036.obj" scale="99.999992371 99.999984741 100.000015259"/>
        </geometry>
        <material name="Sungaya_inexpectata_31mg"/>
      </visual>
      <collision name="34_f_r_pretarsus.000">
        <origin xyz="0.049836345 -0.012741284 -0.098992139" rpy="-1.570796132 -0.261799663 -0.135336325"/>
        <geometry>
          <mesh filename="../meshes/obj/Sungaya_inexpectata_31mg.121.obj" scale="99.999992371 99.999984741 100.000015259"/>
        </geometry>
      </collision>
    </link>

    <link name="43_FL_Pretarsus_R">
      <inertial>
        <origin xyz="0 0 0" rpy="0 0 0"/>
        <mass value="0.001"/>
        <inertia ixx="0.001" ixy="0" ixz="0" iyy="0.001" iyz="0" izz="0.001"/>
      </inertial>
      <visual name="35_f_r_tarsus">
        <origin xyz="0.070910066 -0.011074155 -0.108766519" rpy="-1.570796251 -0.261799484 -0.13533622"/>
        <geometry>
          <mesh filename="../meshes/obj/Sungaya_inexpectata_31mg.035.obj" scale="99.999984741 99.999977112 100.000015259"/>
        </geometry>
        <material name="Sungaya_inexpectata_31mg"/>
      </visual>
      <collision name="35_f_r_tarsus.000">
        <origin xyz="0.070910126 -0.01107414 -0.108766519" rpy="-1.570796251 -0.261799455 -0.135336205"/>
        <geometry>
          <mesh filename="../meshes/obj/Sungaya_inexpectata_31mg.120.obj" scale="99.999984741 99.999977112 100.000015259"/>
        </geometry>
      </collision>
    </link>

    <joint name="02_Prothorax" type="revolute">
      <origin xyz="0 -1.78e-07 0.000415809" rpy="0 0 0"/>
      <parent link="01_Carput"/>
      <child link="02_Prothorax"/>
      <axis xyz="0 0 1.0"/>
      <limit lower="-2.0" upper="2.0" effort="0" velocity="0"/>
    </joint>

    <joint name="03_Mesothorax" type="revolute">
      <origin xyz="0.004213027 -0.142994612 -0.024617193" rpy="0 0 0"/>
      <parent link="02_Prothorax"/>
      <child link="03_Mesothorax"/>
      <axis xyz="0 0 1.0"/>
      <limit lower="-2.0" upper="2.0" effort="0" velocity="0"/>
    </joint>

    <joint name="04_Metathorax" type="revolute">
      <origin xyz="-0.000145554 -0.430798262 -0.00355097" rpy="0 0 0"/>
      <parent link="03_Mesothorax"/>
      <child link="04_Metathorax"/>
      <axis xyz="0 0 1.0"/>
      <limit lower="-2.0" upper="2.0" effort="0" velocity="0"/>
    </joint>

    <joint name="05_Abdomen2" type="revolute">
      <origin xyz="-0.001602647 -0.12710239 0.000206448" rpy="0 0 0"/>
      <parent link="04_Metathorax"/>
      <child link="05_Abdomen2"/>
      <axis xyz="0 0 1.0"/>
      <limit lower="-2.0" upper="2.0" effort="0" velocity="0"/>
    </joint>

    <joint name="06_Abdomen3" type="revolute">
      <origin xyz="0.002542103 -0.090925321 0.010091613" rpy="0 0 0"/>
      <parent link="05_Abdomen2"/>
      <child link="06_Abdomen3"/>
      <axis xyz="0 0 1.0"/>
      <limit lower="-2.0" upper="2.0" effort="0" velocity="0"/>
    </joint>

    <joint name="07_Abdomen4" type="revolute">
      <origin xyz="0.000807045 -0.129344046 0.005316687" rpy="0 0 0"/>
      <parent link="06_Abdomen3"/>
      <child link="07_Abdomen4"/>
      <axis xyz="0 0 1.0"/>
      <limit lower="-2.0" upper="2.0" effort="0" velocity="0"/>
    </joint>

    <joint name="08_Abdomen5" type="revolute">
      <origin xyz="0.000811277 -0.134961858 0.004000917" rpy="0 0 0"/>
      <parent link="07_Abdomen4"/>
      <child link="08_Abdomen5"/>
      <axis xyz="0 0 1.0"/>
      <limit lower="-2.0" upper="2.0" effort="0" velocity="0"/>
    </joint>

    <joint name="09_Abdomen6" type="revolute">
      <origin xyz="0.000862776 -0.131172046 -0.002104308" rpy="0 0 0"/>
      <parent link="08_Abdomen5"/>
      <child link="09_Abdomen6"/>
      <axis xyz="0 0 1.0"/>
      <limit lower="-2.0" upper="2.0" effort="0" velocity="0"/>
    </joint>

    <joint name="10_Abdomen7" type="revolute">
      <origin xyz="0.000803767 -0.126426399 0.006421897" rpy="0 0 0"/>
      <parent link="09_Abdomen6"/>
      <child link="10_Abdomen7"/>
      <axis xyz="0 0 1.0"/>
      <limit lower="-2.0" upper="2.0" effort="0" velocity="0"/>
    </joint>

    <joint name="11_Abdomen8" type="revolute">
      <origin xyz="0.002355661 -0.140459865 -0.002744141" rpy="0 0 0"/>
      <parent link="10_Abdomen7"/>
      <child link="11_Abdomen8"/>
      <axis xyz="0 0 1.0"/>
      <limit lower="-2.0" upper="2.0" effort="0" velocity="0"/>
    </joint>

    <joint name="12_Abdomen9" type="revolute">
      <origin xyz="-0.000770597 -0.113177739 0.013272745" rpy="0 0 0"/>
      <parent link="11_Abdomen8"/>
      <child link="12_Abdomen9"/>
      <axis xyz="0 0 1.0"/>
      <limit lower="-2.0" upper="2.0" effort="0" velocity="0"/>
    </joint>

    <joint name="13_Abdomen10" type="revolute">
      <origin xyz="0.000680922 -0.109023243 -0.009047051" rpy="0 0 0"/>
      <parent link="12_Abdomen9"/>
      <child link="13_Abdomen10"/>
      <axis xyz="0 0 1.0"/>
      <limit lower="-2.0" upper="2.0" effort="0" velocity="0"/>
    </joint>

    <joint name="14_HL_CT_L" type="revolute">
      <origin xyz="-0.019413911 -0.032971028 -0.164481416" rpy="-1.570796013 -1.308996916 1.570796013"/>
      <parent link="05_Abdomen2"/>
      <child link="14_HL_CT_L"/>
      <axis xyz="0 0 1.0"/>
      <limit lower="-2.0" upper="2.0" effort="0" velocity="0"/>
    </joint>

    <joint name="15_HL_Femur_L" type="revolute">
      <origin xyz="-0.041737881 -0.100299038 -0.131669655" rpy="1.570796609 0.608563662 2.18e-07"/>
      <parent link="14_HL_CT_L"/>
      <child link="15_HL_Femur_L"/>
      <axis xyz="0 0 1.0"/>
      <limit lower="-2.0" upper="2.0" effort="0" velocity="0"/>
    </joint>

    <joint name="16_HL_Tibia_L" type="revolute">
      <origin xyz="-0.448163658 -0.152728543 0.001138372" rpy="3.23e-07 1.79e-07 1.508295298"/>
      <parent link="15_HL_Femur_L"/>
      <child link="16_HL_Tibia_L"/>
      <axis xyz="0 0 1.0"/>
      <limit lower="-2.0" upper="2.0" effort="0" velocity="0"/>
    </joint>

    <joint name="17_HL_Tarsus_L" type="revolute">
      <origin xyz="-0.449807197 -0.141624764 0.001335663" rpy="1.78e-07 4.7e-08 -1.19165194"/>
      <parent link="16_HL_Tibia_L"/>
      <child link="17_HL_Tarsus_L"/>
      <axis xyz="0 0 1.0"/>
      <limit lower="-2.0" upper="2.0" effort="0" velocity="0"/>
    </joint>

    <joint name="18_HL_Pretarsus_L" type="revolute">
      <origin xyz="-0.091313191 -0.029319784 9.869e-05" rpy="-1.56e-07 1.12e-07 3e-08"/>
      <parent link="17_HL_Tarsus_L"/>
      <child link="18_HL_Pretarsus_L"/>
      <axis xyz="0 0 1.0"/>
      <limit lower="-2.0" upper="2.0" effort="0" velocity="0"/>
    </joint>

    <joint name="19_HL_CT_R" type="revolute">
      <origin xyz="-0.019540392 -0.031810686 0.003102811" rpy="1.570796013 -1.308996916 -1.570796013"/>
      <parent link="05_Abdomen2"/>
      <child link="19_HL_CT_R"/>
      <axis xyz="0 0 1.0"/>
      <limit lower="-2.0" upper="2.0" effort="0" velocity="0"/>
    </joint>

    <joint name="20_HL_Femur_R" type="revolute">
      <origin xyz="0.041697908 -0.09984009 -0.13160409" rpy="1.570796609 -0.634230912 -2.96e-07"/>
      <parent link="19_HL_CT_R"/>
      <child link="20_HL_Femur_R"/>
      <axis xyz="0 0 1.0"/>
      <limit lower="-2.0" upper="2.0" effort="0" velocity="0"/>
    </joint>

    <joint name="21_HL_Tibia_R" type="revolute">
      <origin xyz="0.44849053 -0.152042881 -0.004467748" rpy="3.1e-08 1.22e-07 -1.558378577"/>
      <parent link="20_HL_Femur_R"/>
      <child link="21_HL_Tibia_R"/>
      <axis xyz="0 0 1.0"/>
      <limit lower="-2.0" upper="2.0" effort="0" velocity="0"/>
    </joint>

    <joint name="22_HL_Tarsus_R" type="revolute">
      <origin xyz="0.450028926 -0.140937299 -0.004336946" rpy="-1.84e-07 -1.3e-08 1.226022959"/>
      <parent link="21_HL_Tibia_R"/>
      <child link="22_HL_Tarsus_R"/>
      <axis xyz="0 0 1.0"/>
      <limit lower="-2.0" upper="2.0" effort="0" velocity="0"/>
    </joint>

    <joint name="23_HL_Pretarsus_R" type="revolute">
      <origin xyz="0.091336064 -0.029179383 -0.001052705" rpy="-1.92e-07 5.5e-08 -8.9e-08"/>
      <parent link="22_HL_Tarsus_R"/>
      <child link="23_HL_Pretarsus_R"/>
      <axis xyz="0 0 1.0"/>
      <limit lower="-2.0" upper="2.0" effort="0" velocity="0"/>
    </joint>

    <joint name="24_ML_CT_L" type="revolute">
      <origin xyz="-0.02088513 -0.358530134 -0.15469411" rpy="0 -1.570796251 0"/>
      <parent link="03_Mesothorax"/>
      <child link="24_ML_CT_L"/>
      <axis xyz="0 0 1.0"/>
      <limit lower="-2.0" upper="2.0" effort="0" velocity="0"/>
    </joint>

    <joint name="25_ML_Femur_L" type="revolute">
      <origin xyz="-0.064433865 -0.1009342 -0.130984351" rpy="1.570796371 0.365136325 4.4e-08"/>
      <parent link="24_ML_CT_L"/>
      <child link="25_ML_Femur_L"/>
      <axis xyz="0 0 1.0"/>
      <limit lower="-2.0" upper="2.0" effort="0" velocity="0"/>
    </joint>

    <joint name="26_ML_Tibia_L" type="revolute">
      <origin xyz="-0.372795433 -0.115424424 -0.00439877" rpy="-2.14e-07 -7.1e-08 1.198886037"/>
      <parent link="25_ML_Femur_L"/>
      <child link="26_ML_Tibia_L"/>
      <axis xyz="0 0 1.0"/>
      <limit lower="-2.0" upper="2.0" effort="0" velocity="0"/>
    </joint>

    <joint name="27_ML_Tarsus_L" type="revolute">
      <origin xyz="-0.345735192 -0.102625422 -0.002480305" rpy="-3.14e-07 2.3e-07 -1.057119012"/>
      <parent link="26_ML_Tibia_L"/>
      <child link="27_ML_Tarsus_L"/>
      <axis xyz="0 0 1.0"/>
      <limit lower="-2.0" upper="2.0" effort="0" velocity="0"/>
    </joint>

    <joint name="28_ML_Pretarsus_L" type="revolute">
      <origin xyz="-0.082457982 -0.027328469 -0.002688455" rpy="5e-09 -2.1e-08 -1.19e-07"/>
      <parent link="27_ML_Tarsus_L"/>
      <child link="28_ML_Pretarsus_L"/>
      <axis xyz="0 0 1.0"/>
      <limit lower="-2.0" upper="2.0" effort="0" velocity="0"/>
    </joint>

    <joint name="29_ML_CT_R" type="revolute">
      <origin xyz="-0.020990929 -0.357571304 -0.016328847" rpy="0 -1.570796251 0"/>
      <parent link="03_Mesothorax"/>
      <child link="29_ML_CT_R"/>
      <axis xyz="0 0 1.0"/>
      <limit lower="-2.0" upper="2.0" effort="0" velocity="0"/>
    </joint>

    <joint name="30_ML_Femur_R" type="revolute">
      <origin xyz="0.06452845 -0.100208744 -0.13088493" rpy="1.57079649 -0.388030559 -4.5e-08"/>
      <parent link="29_ML_CT_R"/>
      <child link="30_ML_Femur_R"/>
      <axis xyz="0 0 1.0"/>
      <limit lower="-2.0" upper="2.0" effort="0" velocity="0"/>
    </joint>

    <joint name="31_ML_Tibia_R" type="revolute">
      <origin xyz="0.372751355 -0.114855073 -0.00907665" rpy="1.1e-07 -5.5e-08 -1.280851364"/>
      <parent link="30_ML_Femur_R"/>
      <child link="31_ML_Tibia_R"/>
      <axis xyz="0 0 1.0"/>
      <limit lower="-2.0" upper="2.0" effort="0" velocity="0"/>
    </joint>

    <joint name="32_ML_Tarsus_R" type="revolute">
      <origin xyz="0.346063942 -0.102096371 -0.006840648" rpy="-2.25e-07 1.18e-07 1.176845789"/>
      <parent link="31_ML_Tibia_R"/>
      <child link="32_ML_Tarsus_R"/>
      <axis xyz="0 0 1.0"/>
      <limit lower="-2.0" upper="2.0" effort="0" velocity="0"/>
    </joint>

    <joint name="33_ML_Pretarsus_R" type="revolute">
      <origin xyz="0.082352892 -0.027202461 -0.003742758" rpy="2.17e-07 -7.5e-08 0"/>
      <parent link="32_ML_Tarsus_R"/>
      <child link="33_ML_Pretarsus_R"/>
      <axis xyz="0 0 1.0"/>
      <limit lower="-2.0" upper="2.0" effort="0" velocity="0"/>
    </joint>

    <joint name="34_FL_CT_L" type="revolute">
      <origin xyz="-0.041684669 -0.057771511 -0.168337941" rpy="1.570796013 -1.308996916 -1.570796013"/>
      <parent link="02_Prothorax"/>
      <child link="34_FL_CT_L"/>
      <axis xyz="0 0 1.0"/>
      <limit lower="-2.0" upper="2.0" effort="0" velocity="0"/>
    </joint>

    <joint name="35_FL_Femur_L" type="revolute">
      <origin xyz="-0.061503503 -0.103693411 -0.121669807" rpy="1.570796132 0.292513788 1.71e-07"/>
      <parent link="34_FL_CT_L"/>
      <child link="35_FL_Femur_L"/>
      <axis xyz="0 0 1.0"/>
      <limit lower="-2.0" upper="2.0" effort="0" velocity="0"/>
    </joint>

    <joint name="36_FL_Tibia_L" type="revolute">
      <origin xyz="-0.421480596 -0.099514306 0.008573248" rpy="-9.8e-08 -5.24e-07 1.300907612"/>
      <parent link="35_FL_Femur_L"/>
      <child link="36_FL_Tibia_L"/>
      <axis xyz="0 0 1.0"/>
      <limit lower="-2.0" upper="2.0" effort="0" velocity="0"/>
    </joint>

    <joint name="37_FL_Tarsus_L" type="revolute">
      <origin xyz="-0.368829638 -0.081771508 -0.001843986" rpy="6.1e-08 -1.58e-07 -1.122626781"/>
      <parent link="36_FL_Tibia_L"/>
      <child link="37_FL_Tarsus_L"/>
      <axis xyz="0 0 1.0"/>
      <limit lower="-2.0" upper="2.0" effort="0" velocity="0"/>
    </joint>

    <joint name="38_FL_Pretarsus_L" type="revolute">
      <origin xyz="-0.100268409 -0.027177051 -0.000609993" rpy="-1e-09 3.2e-08 0"/>
      <parent link="37_FL_Tarsus_L"/>
      <child link="38_FL_Pretarsus_L"/>
      <axis xyz="0 0 1.0"/>
      <limit lower="-2.0" upper="2.0" effort="0" velocity="0"/>
    </joint>

    <joint name="39_FL_CT_R" type="revolute">
      <origin xyz="-0.041769486 -0.05716313 -0.057542291" rpy="-1.570796013 -1.308996916 1.570796013"/>
      <parent link="02_Prothorax"/>
      <child link="39_FL_CT_R"/>
      <axis xyz="0 0 1.0"/>
      <limit lower="-2.0" upper="2.0" effort="0" velocity="0"/>
    </joint>

    <joint name="40_FL_Femur_R" type="revolute">
      <origin xyz="0.061603609 -0.102827176 -0.121575452" rpy="1.570796251 -0.279429793 -9.3e-08"/>
      <parent link="39_FL_CT_R"/>
      <child link="40_FL_Femur_R"/>
      <axis xyz="0 0 1.0"/>
      <limit lower="-2.0" upper="2.0" effort="0" velocity="0"/>
    </joint>

    <joint name="41_FL_Tibia_R" type="revolute">
      <origin xyz="0.421720564 -0.09886986 0.003246838" rpy="1.07e-07 4.11e-07 -1.303087234"/>
      <parent link="40_FL_Femur_R"/>
      <child link="41_FL_Tibia_R"/>
      <axis xyz="0 0 1.0"/>
      <limit lower="-2.0" upper="2.0" effort="0" velocity="0"/>
    </joint>

    <joint name="42_FL_Tarsus_R" type="revolute">
      <origin xyz="0.368941516 -0.081208073 -0.006476092" rpy="-5.25e-07 3.01e-07 1.158993483"/>
      <parent link="41_FL_Tibia_R"/>
      <child link="42_FL_Tarsus_R"/>
      <axis xyz="0 0 1.0"/>
      <limit lower="-2.0" upper="2.0" effort="0" velocity="0"/>
    </joint>

    <joint name="43_FL_Pretarsus_R" type="revolute">
      <origin xyz="0.100329891 -0.027023749 -0.001864786" rpy="1.04e-07 -1.48e-07 -4.5e-08"/>
      <parent link="42_FL_Tarsus_R"/>
      <child link="43_FL_Pretarsus_R"/>
      <axis xyz="0 0 1.0"/>
      <limit lower="-2.0" upper="2.0" effort="0" velocity="0"/>
    </joint>

    <material name="Sungaya_inexpectata_31mg">
      <color rgba="0 0 0 1.0"/>
    </material>

  </robot>
